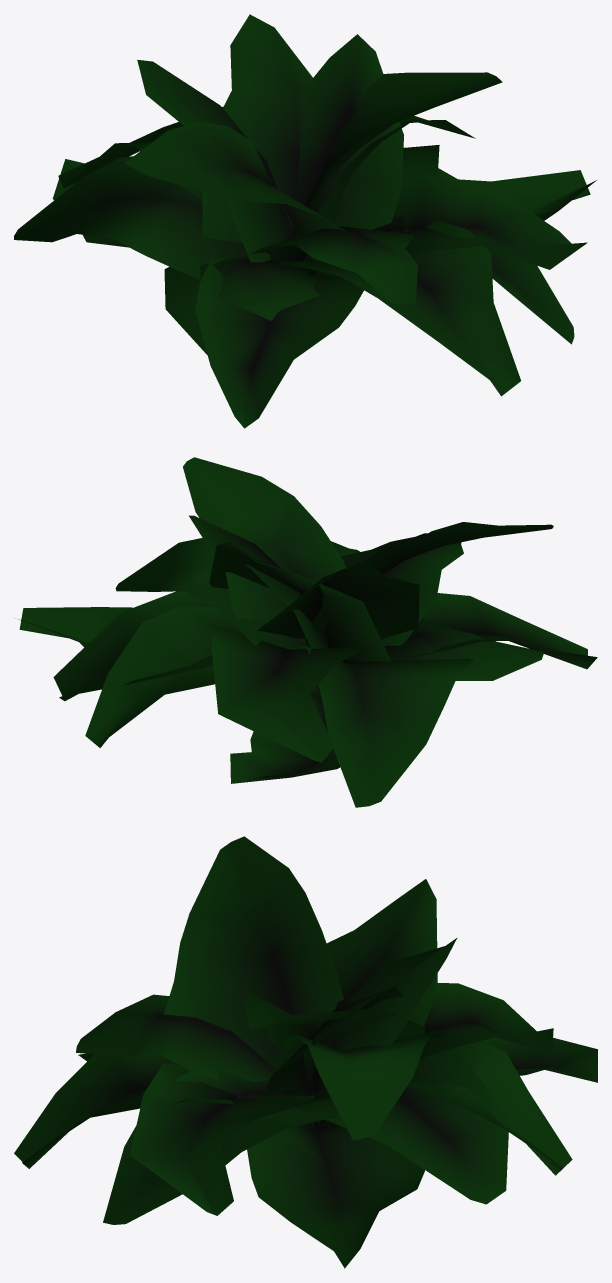
File: TTFE_Fern.fbx
The picture shows the model from 3 angles, top to bottom: view 1: azimuth 30°, elevation 25°; view 2: azimuth 150°, elevation 25°; view 3: azimuth 270°, elevation 25°; orthographic projection. The views are drawn at different scales.
Parts seen in each view (by area): view 1: TTFE_Fern; view 2: TTFE_Fern; view 3: TTFE_Fern.
Part boxes in pixels (bbox=[...]): TTFE_Fern: bbox=[14, 14, 596, 428]; TTFE_Fern: bbox=[18, 457, 597, 807]; TTFE_Fern: bbox=[14, 836, 597, 1268].
Size of the model in its own units: 2.41 by 1.02 by 2.44.
